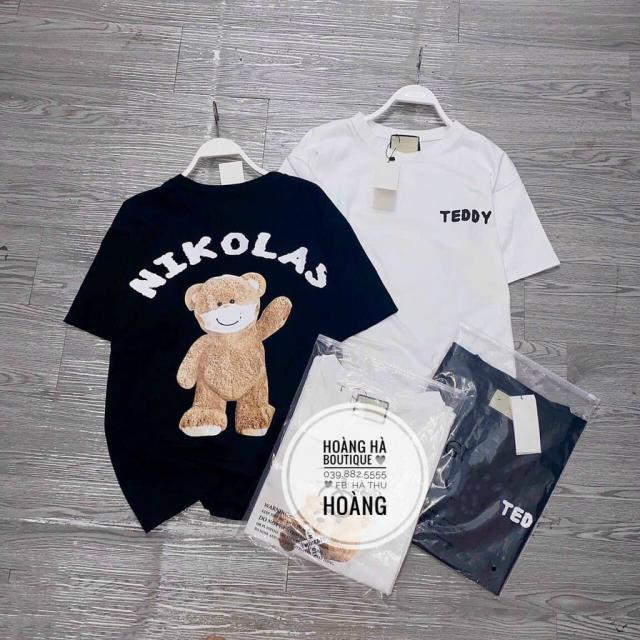Shirt: (57, 169, 400, 524), (278, 115, 560, 418)
